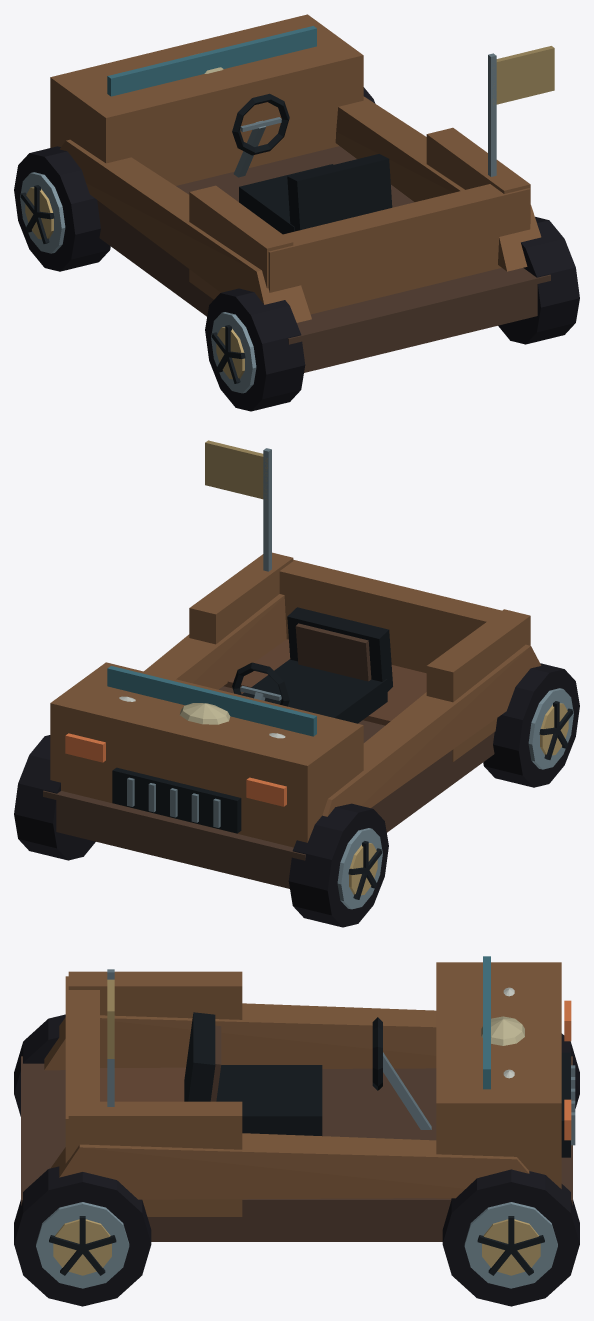
File: kart.glb
3 views of the same model, one above another, from view 1: azimuth 30°, elevation 25°; view 2: azimuth 150°, elevation 25°; view 3: azimuth 270°, elevation 25° (orthographic). The views are drawn at different scales.
Visible parts, largest first — view 1: identity-truck-truck-utility-body, identity-truck-driver-cockpit, wheel-rear-left, wheel-front-left, wheel-rear-right, identity-truck-motif-flag; view 2: identity-truck-truck-utility-body, identity-truck-driver-cockpit, wheel-front-left, wheel-rear-left, wheel-front-right, identity-truck-motif-flag, identity-truck-motif-skull; view 3: identity-truck-truck-utility-body, wheel-front-right, wheel-rear-right, identity-truck-driver-cockpit, wheel-rear-left, identity-truck-motif-flag, identity-truck-motif-skull.
Part boxes in pixels (x1,y1,x2,y2): identity-truck-truck-utility-body: (50, 14, 550, 372); identity-truck-driver-cockpit: (232, 93, 392, 234); wheel-rear-left: (205, 288, 305, 411); wheel-front-left: (14, 146, 110, 271); wheel-rear-right: (498, 216, 579, 344); identity-truck-motif-flag: (488, 46, 554, 176); identity-truck-truck-utility-body: (43, 552, 541, 888); identity-truck-driver-cockpit: (232, 607, 392, 723); wheel-front-left: (288, 803, 388, 927); wheel-rear-left: (483, 663, 579, 787); wheel-front-right: (14, 735, 95, 860); identity-truck-motif-flag: (205, 440, 271, 571); identity-truck-motif-skull: (180, 703, 230, 724); identity-truck-truck-utility-body: (21, 956, 575, 1241); wheel-front-right: (442, 1169, 579, 1306); wheel-rear-right: (14, 1166, 151, 1306); identity-truck-driver-cockpit: (184, 1012, 431, 1135); wheel-rear-left: (14, 1014, 65, 1116); identity-truck-motif-flag: (107, 969, 114, 1106); identity-truck-motif-skull: (481, 1016, 524, 1045).
Size of the model in its own units: 2.17 by 1.7 by 2.8.
